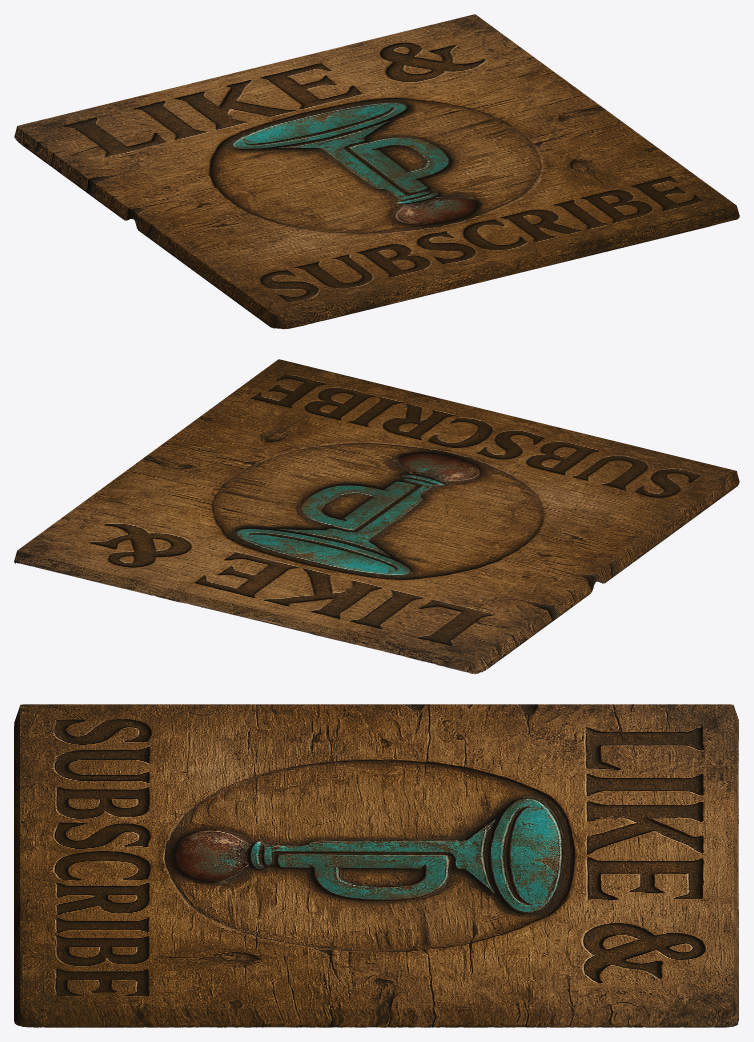
Rendered from LikeandSub_Albedo.fbx.
3 views of the same model, one above another, from view 1: azimuth 30°, elevation 25°; view 2: azimuth 150°, elevation 25°; view 3: azimuth 270°, elevation 25° (orthographic). The views are drawn at different scales.
Visible parts, largest first — view 1: LikeandSub_Albedo.001; view 2: LikeandSub_Albedo.001; view 3: LikeandSub_Albedo.001.
Part boxes in pixels (<box>): LikeandSub_Albedo.001: <box>14,14,739,329</box>; LikeandSub_Albedo.001: <box>14,359,739,674</box>; LikeandSub_Albedo.001: <box>14,704,738,1027</box>.
Size of the model in its own units: 0.8941 by 0.0212 by 0.8854.
